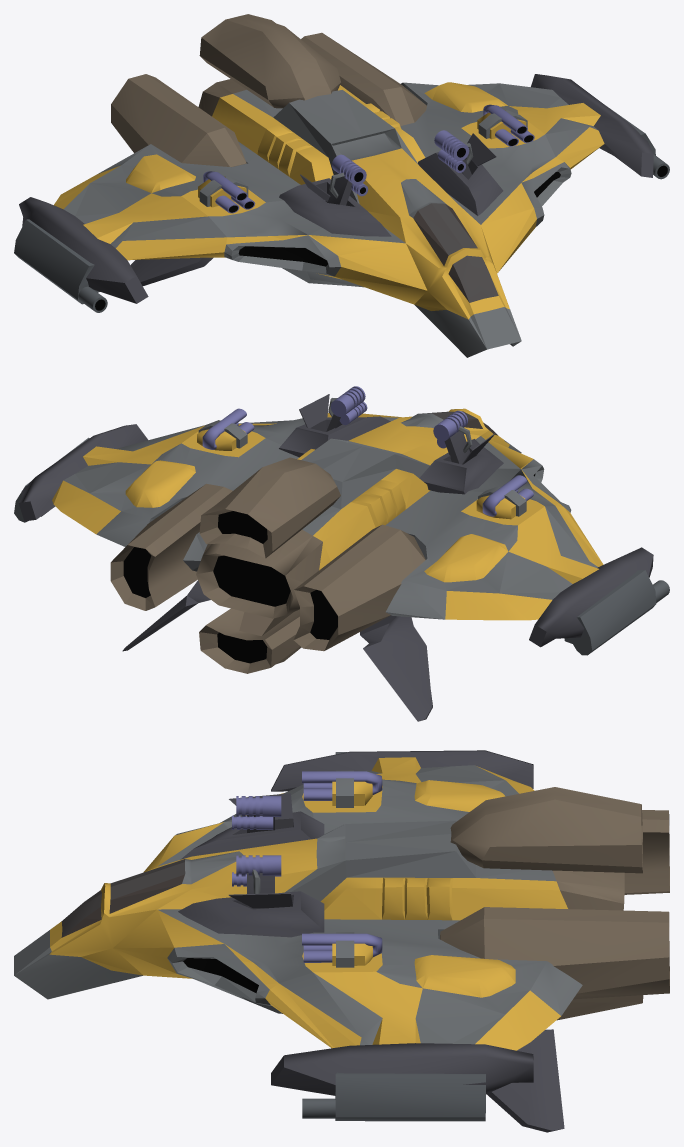
The picture shows the model from 3 angles, top to bottom: view 1: azimuth 30°, elevation 25°; view 2: azimuth 150°, elevation 25°; view 3: azimuth 270°, elevation 25°; orthographic projection. The views are drawn at different scales.
Parts seen in each view (by area): view 1: 3DSMeshMatrix; view 2: 3DSMeshMatrix; view 3: 3DSMeshMatrix.
Boxes of the visible parts, x1,y1,x2,y2 form: 3DSMeshMatrix: (14, 14, 669, 357); 3DSMeshMatrix: (14, 386, 669, 721); 3DSMeshMatrix: (14, 750, 669, 1132).
Size of the model in its own units: 15.72 by 5.64 by 13.18.
Materials: 1 (1 with a texture image).
